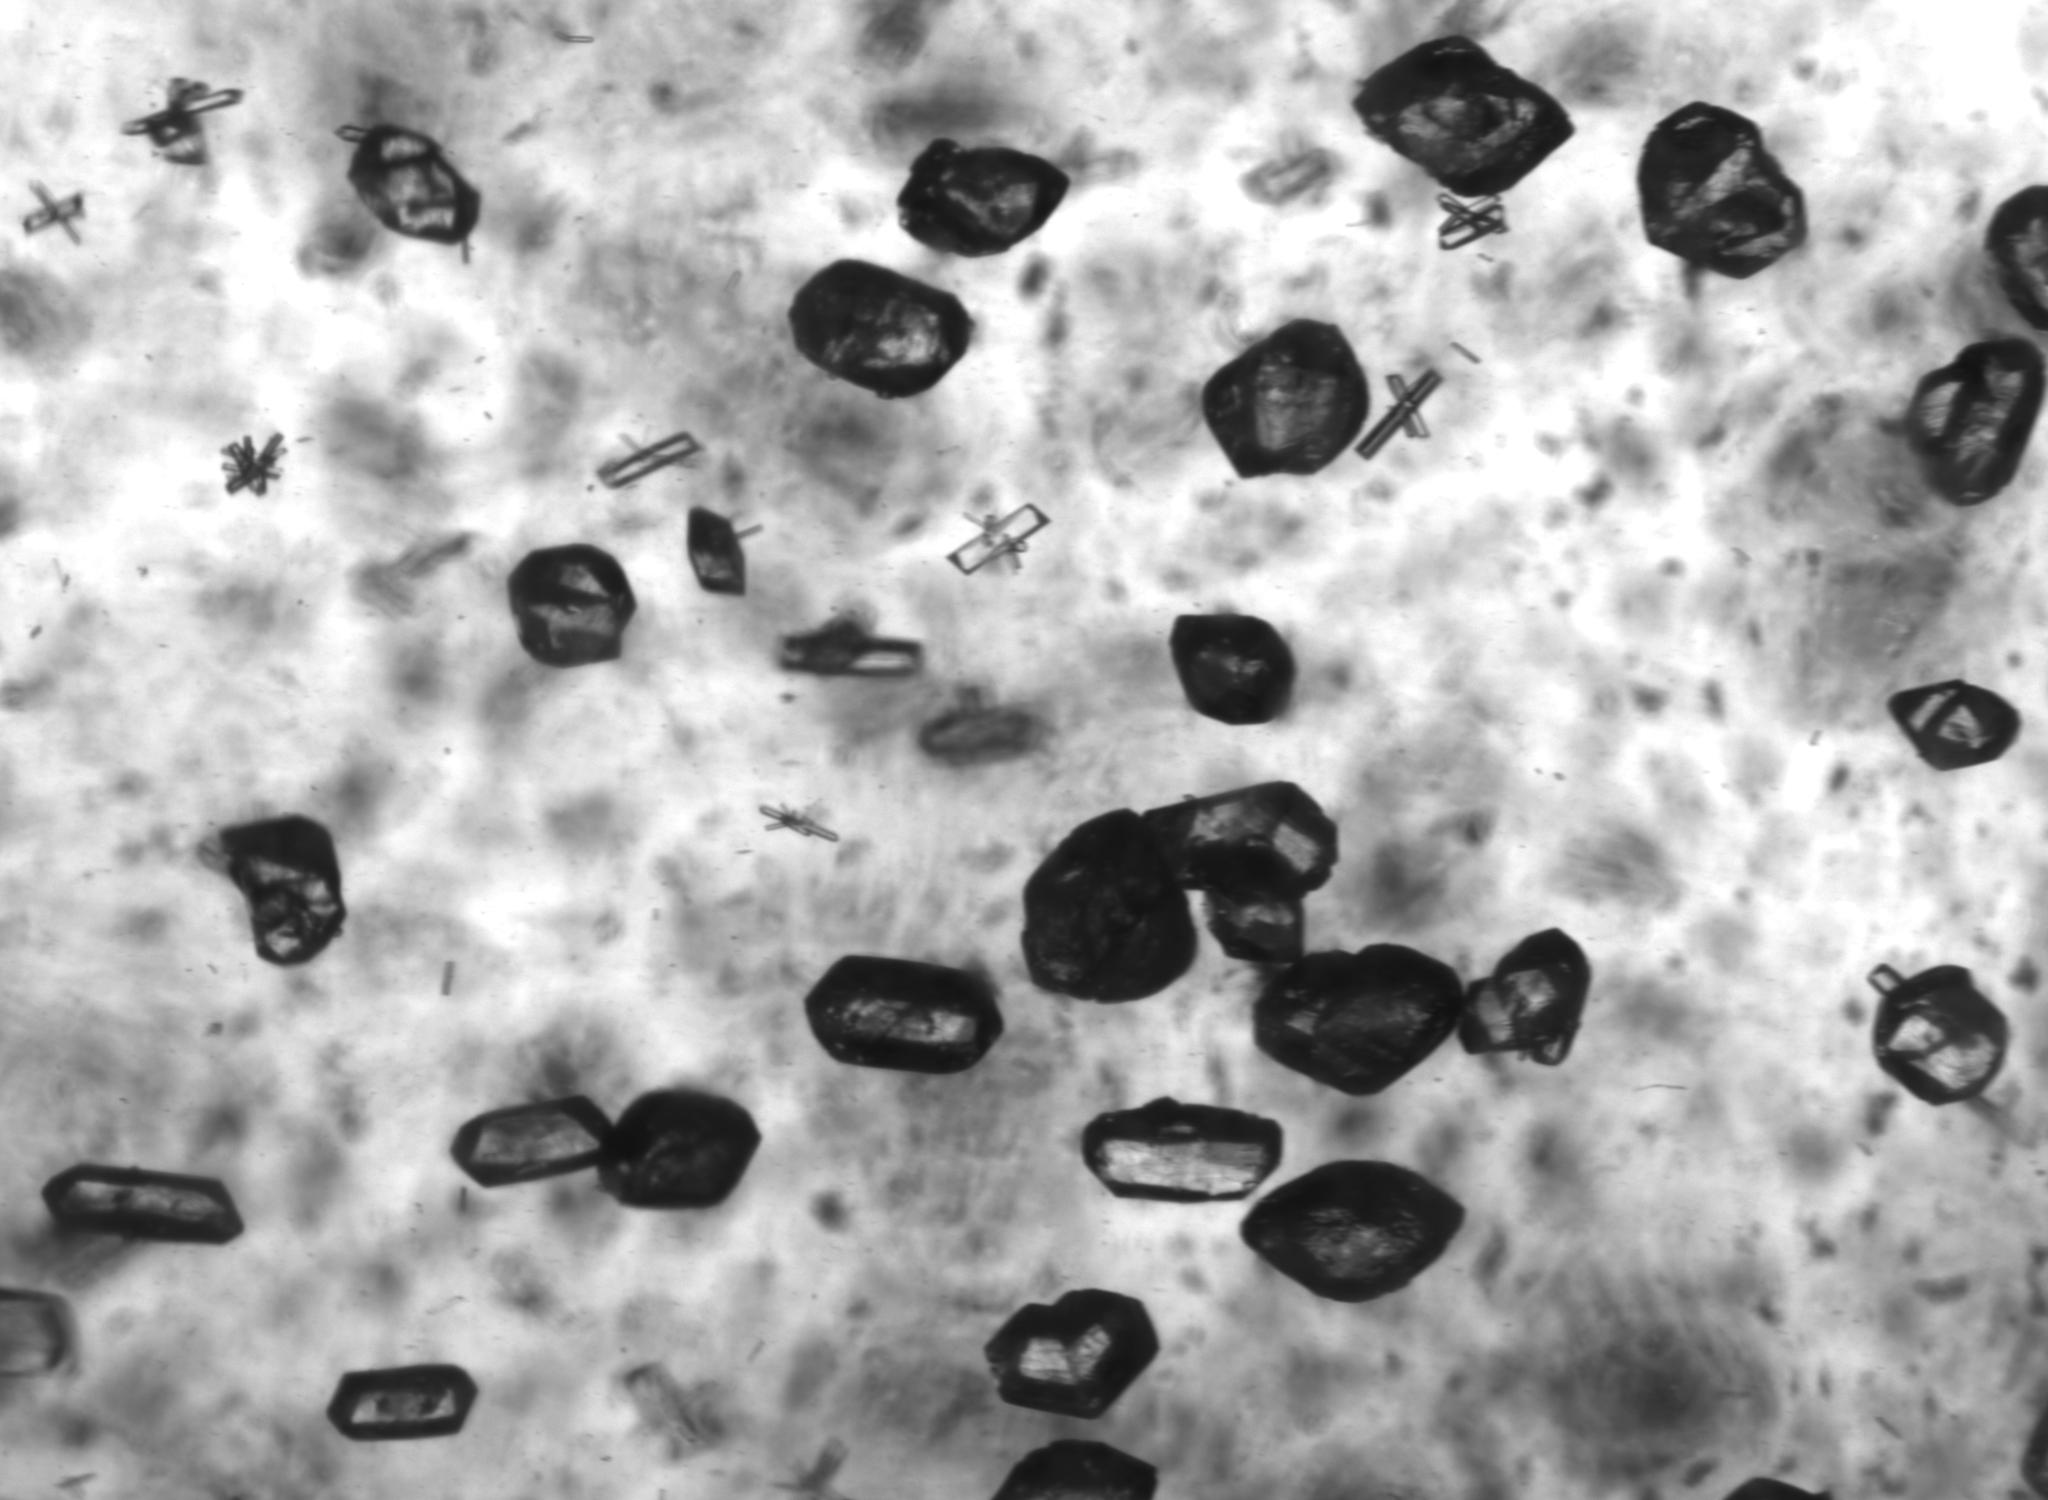crystal: (1143, 783, 1337, 964), (1355, 37, 1573, 197), (1021, 810, 1196, 1004), (1240, 1161, 1464, 1303), (1253, 945, 1461, 1094), (1638, 103, 1806, 278), (1202, 320, 1369, 477), (789, 259, 973, 398), (805, 956, 1002, 1074), (1905, 339, 2045, 504), (986, 1290, 1158, 1417), (1081, 1099, 1282, 1203), (897, 140, 1069, 258), (1868, 964, 2008, 1106), (215, 816, 345, 966), (598, 1090, 758, 1209), (1458, 929, 1590, 1066), (339, 122, 480, 247), (43, 1163, 243, 1244), (509, 544, 636, 666), (452, 1096, 614, 1187), (1170, 614, 1294, 724), (1889, 679, 2019, 770), (328, 1365, 479, 1441), (124, 78, 242, 165), (991, 1441, 1156, 1500), (1984, 186, 2048, 331), (1355, 369, 1442, 460), (946, 503, 1051, 574), (595, 431, 703, 488), (687, 507, 746, 595), (219, 433, 288, 496), (1437, 192, 1507, 250), (758, 803, 841, 845), (2023, 1398, 2048, 1500), (1722, 1478, 1832, 1500)
